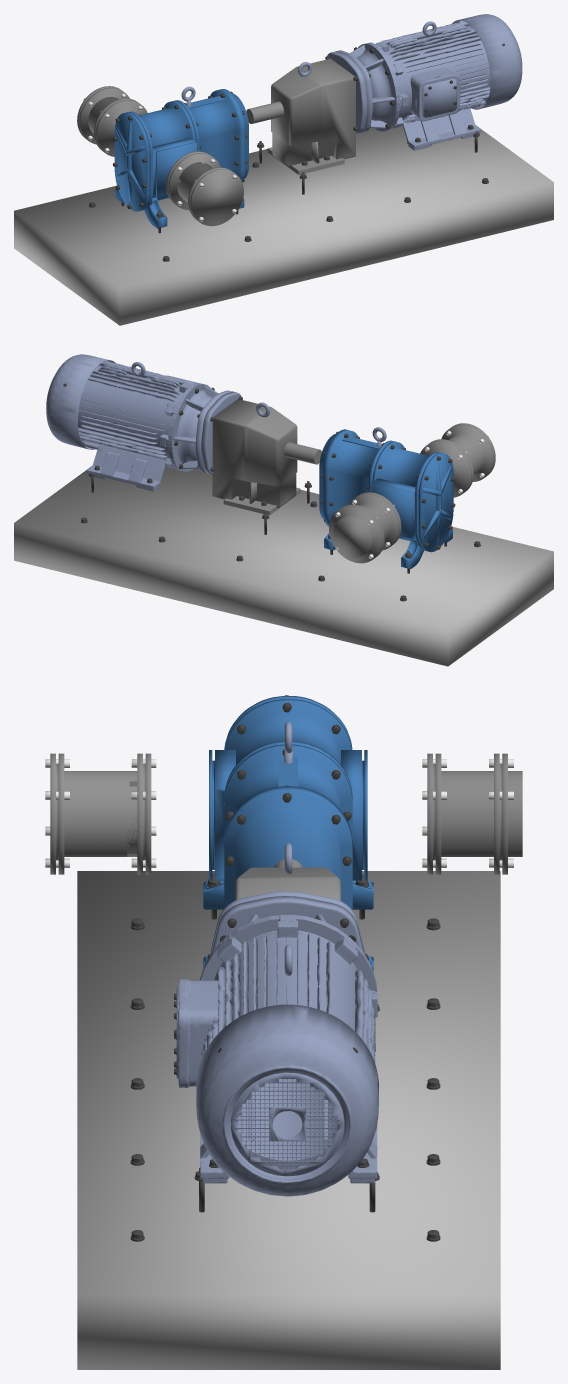
The model's file is pump-skid.glb.
3 views of the same model, one above another, from view 1: azimuth 30°, elevation 25°; view 2: azimuth 150°, elevation 25°; view 3: azimuth 270°, elevation 25° (orthographic). The views are drawn at different scales.
Parts seen in each view (by area): view 1: Obj3d66-1060089-903-9, Obj3d66-1060089-747-557, Obj3d66-1060089-823-327, Obj3d66-1060089-822-129, Obj3d66-1060089-775-338, Obj3d66-1060089-774-323, Obj3d66-1060089-924-512, Obj3d66-1060089-783-542, Obj3d66-1060089-760-486, Obj3d66-1060089-919-723, Obj3d66-1060089-784-174, Obj3d66-1060089-752-412 (+10 smaller); view 2: Obj3d66-1060089-903-9, Obj3d66-1060089-747-557, Obj3d66-1060089-823-327, Obj3d66-1060089-774-323, Obj3d66-1060089-775-338, Obj3d66-1060089-822-129, Obj3d66-1060089-783-542, Obj3d66-1060089-919-723, Obj3d66-1060089-761-467, Obj3d66-1060089-924-512, Obj3d66-1060089-914-134, Obj3d66-1060089-929-167 (+8 smaller); view 3: Obj3d66-1060089-903-9, Obj3d66-1060089-783-542, Obj3d66-1060089-822-129, Obj3d66-1060089-774-323, Obj3d66-1060089-823-327, Obj3d66-1060089-924-512, Obj3d66-1060089-919-723, Obj3d66-1060089-787-292, Obj3d66-1060089-775-338, Obj3d66-1060089-784-174, Obj3d66-1060089-751-696, Obj3d66-1060089-747-557 (+7 smaller).
Boxes of the visible parts, bbox=[...] form: Obj3d66-1060089-903-9: bbox=[14, 125, 553, 325]; Obj3d66-1060089-747-557: bbox=[271, 58, 355, 167]; Obj3d66-1060089-823-327: bbox=[114, 101, 196, 211]; Obj3d66-1060089-822-129: bbox=[174, 89, 248, 182]; Obj3d66-1060089-775-338: bbox=[375, 21, 490, 124]; Obj3d66-1060089-774-323: bbox=[370, 20, 490, 128]; Obj3d66-1060089-924-512: bbox=[177, 162, 243, 226]; Obj3d66-1060089-783-542: bbox=[452, 14, 522, 109]; Obj3d66-1060089-760-486: bbox=[402, 108, 481, 150]; Obj3d66-1060089-919-723: bbox=[88, 97, 147, 156]; Obj3d66-1060089-784-174: bbox=[410, 67, 459, 121]; Obj3d66-1060089-752-412: bbox=[357, 50, 391, 123]; Obj3d66-1060089-903-9: bbox=[14, 465, 553, 666]; Obj3d66-1060089-747-557: bbox=[212, 399, 297, 508]; Obj3d66-1060089-823-327: bbox=[371, 441, 453, 552]; Obj3d66-1060089-774-323: bbox=[78, 361, 197, 468]; Obj3d66-1060089-775-338: bbox=[78, 361, 193, 466]; Obj3d66-1060089-822-129: bbox=[319, 429, 394, 526]; Obj3d66-1060089-783-542: bbox=[46, 354, 115, 449]; Obj3d66-1060089-919-723: bbox=[333, 492, 401, 557]; Obj3d66-1060089-761-467: bbox=[86, 444, 165, 491]; Obj3d66-1060089-924-512: bbox=[441, 423, 495, 481]; Obj3d66-1060089-914-134: bbox=[329, 504, 384, 563]; Obj3d66-1060089-929-167: bbox=[420, 439, 473, 497]; Obj3d66-1060089-903-9: bbox=[77, 871, 500, 1369]; Obj3d66-1060089-783-542: bbox=[196, 1004, 378, 1196]; Obj3d66-1060089-822-129: bbox=[224, 744, 352, 910]; Obj3d66-1060089-774-323: bbox=[215, 920, 377, 1176]; Obj3d66-1060089-823-327: bbox=[209, 695, 367, 880]; Obj3d66-1060089-924-512: bbox=[50, 753, 137, 874]; Obj3d66-1060089-919-723: bbox=[427, 753, 522, 874]; Obj3d66-1060089-787-292: bbox=[231, 1072, 344, 1176]; Obj3d66-1060089-775-338: bbox=[201, 932, 375, 1156]; Obj3d66-1060089-784-174: bbox=[178, 979, 218, 1087]; Obj3d66-1060089-751-696: bbox=[211, 896, 364, 953]; Obj3d66-1060089-747-557: bbox=[235, 867, 340, 900].
Bounding box in the file's own units: 10454 × 4025 × 4918.
